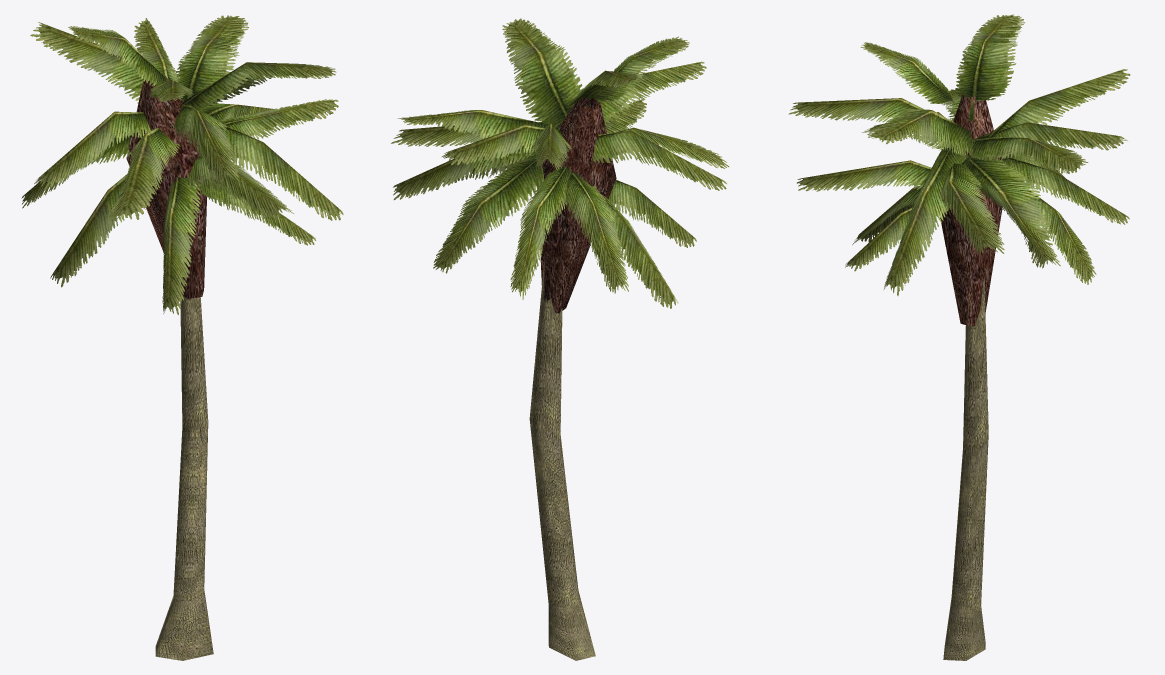
File: flora-trees-palm-date.glb
3 renders of one model, left to right at view 1: azimuth 30°, elevation 25°; view 2: azimuth 150°, elevation 25°; view 3: azimuth 270°, elevation 25°, orthographic. The views are drawn at different scales.
Visible parts, largest first — view 1: tree_palm_date_b; view 2: tree_palm_date_b; view 3: tree_palm_date_b.
Boxes of the visible parts, <box> form: tree_palm_date_b: <box>21,15,343,660</box>; tree_palm_date_b: <box>391,18,728,660</box>; tree_palm_date_b: <box>788,14,1130,660</box>.
Bounding box in the file's own units: 5.08 × 9.08 × 5.18.
1 material, 1 textured.
